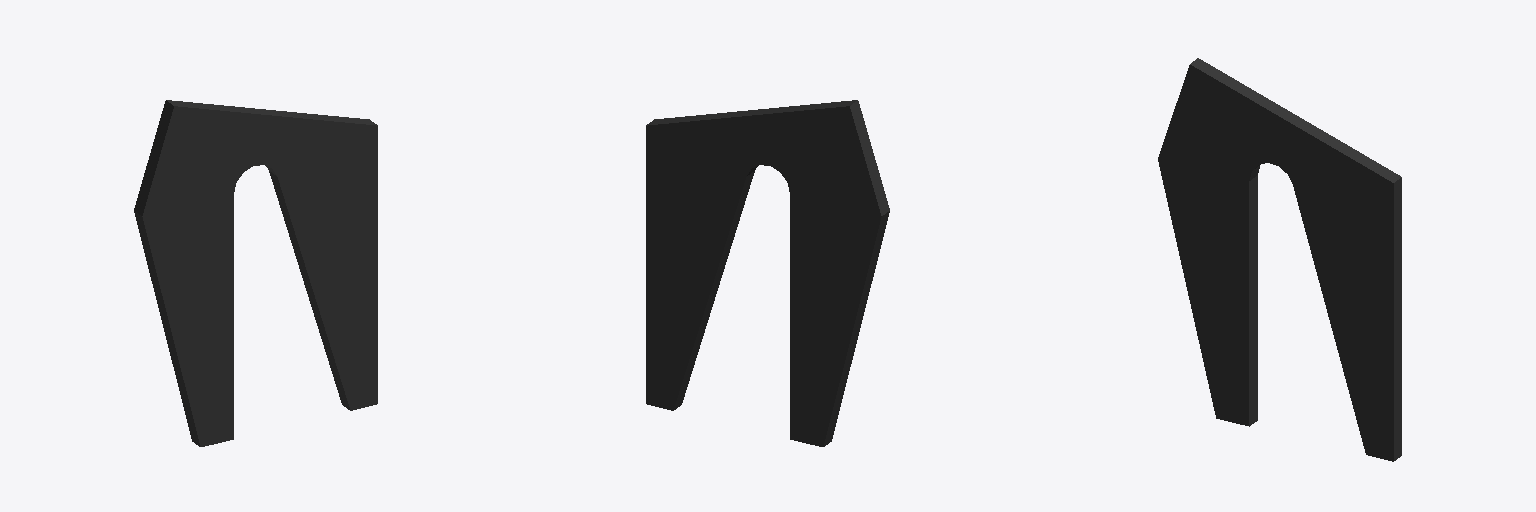
File: roki2_simlify_Dual_Servo_Al_022Copyv1_2_mesh_0.obj
3 renders of one model, left to right at view 1: azimuth 30°, elevation 25°; view 2: azimuth 150°, elevation 25°; view 3: azimuth 330°, elevation 25°, orthographic.
Bounding box in the file's own units: 0.0319 × 0.045 × 0.002.